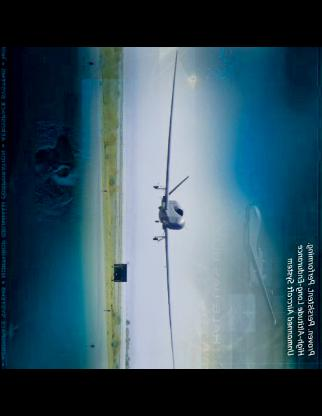P3: (150, 48, 189, 368), (242, 204, 276, 326)
